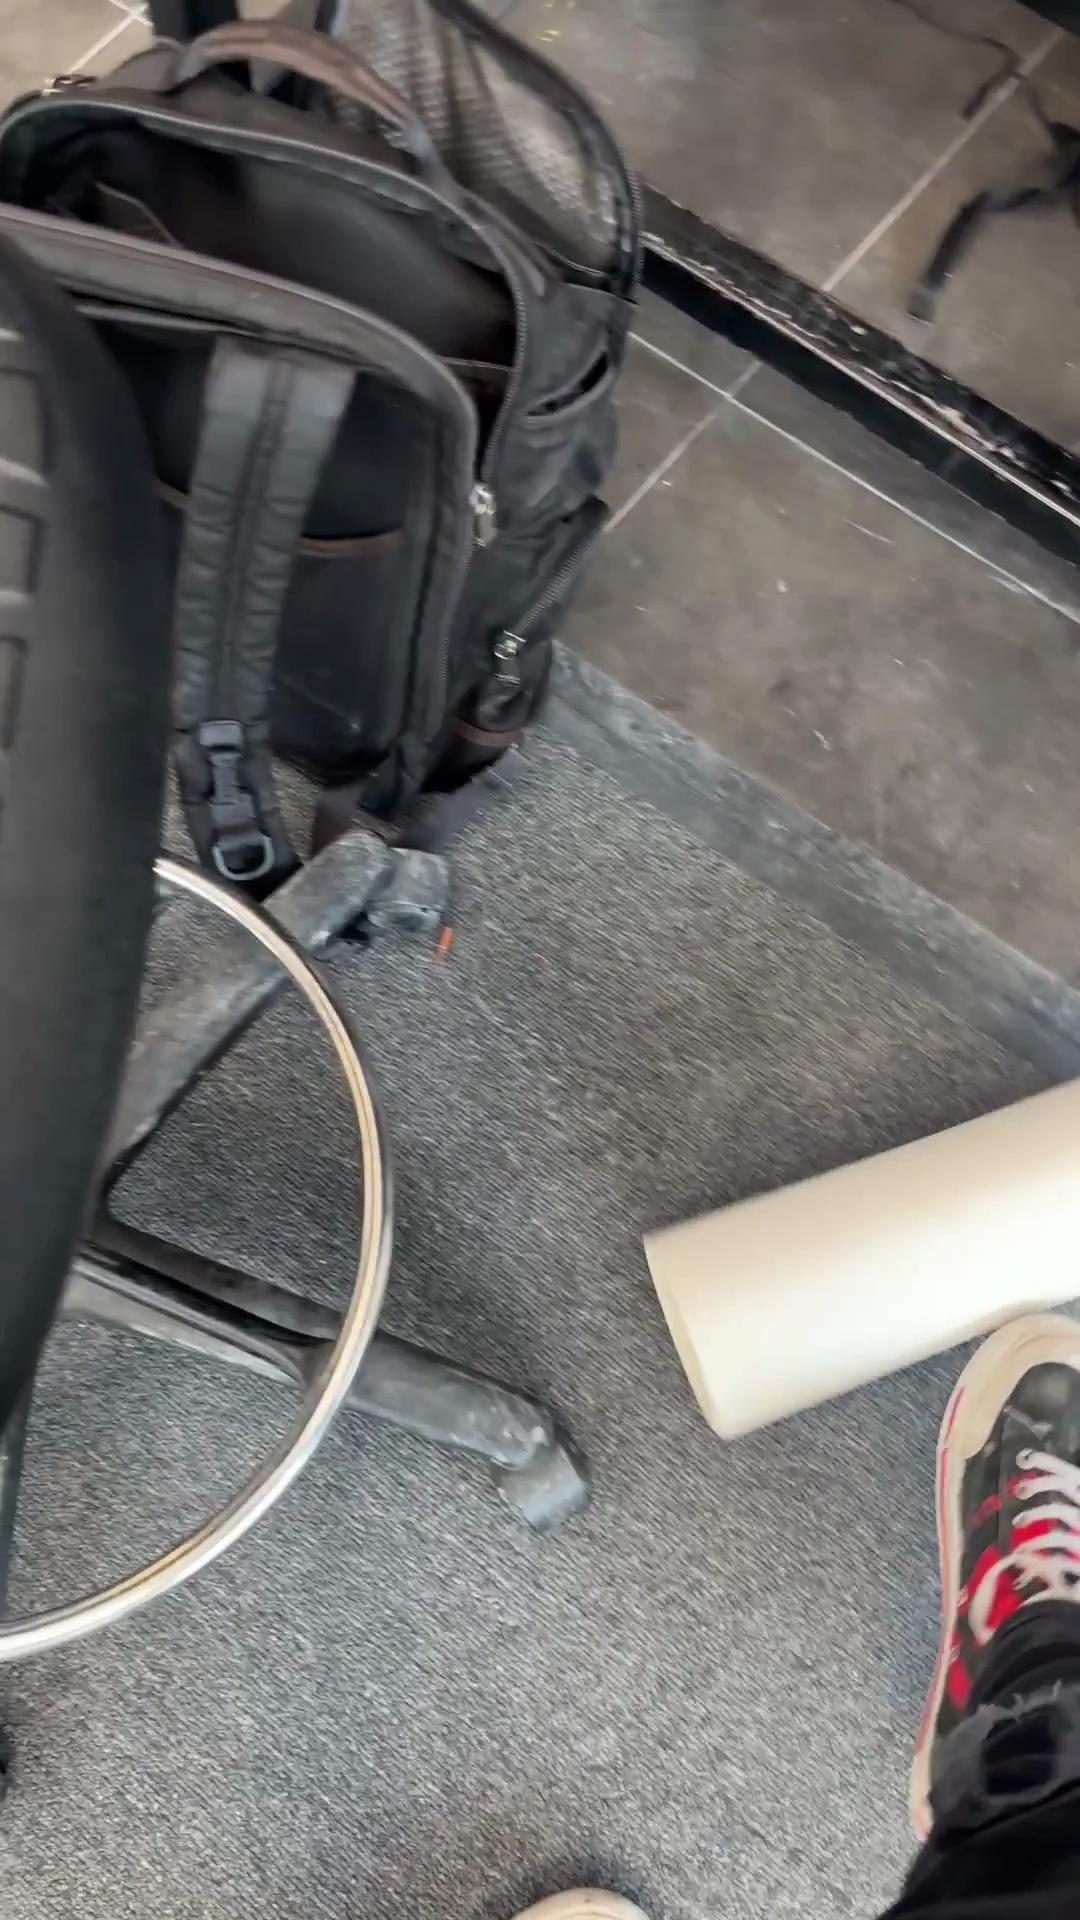CORAL: (640, 1073, 1077, 1441)
